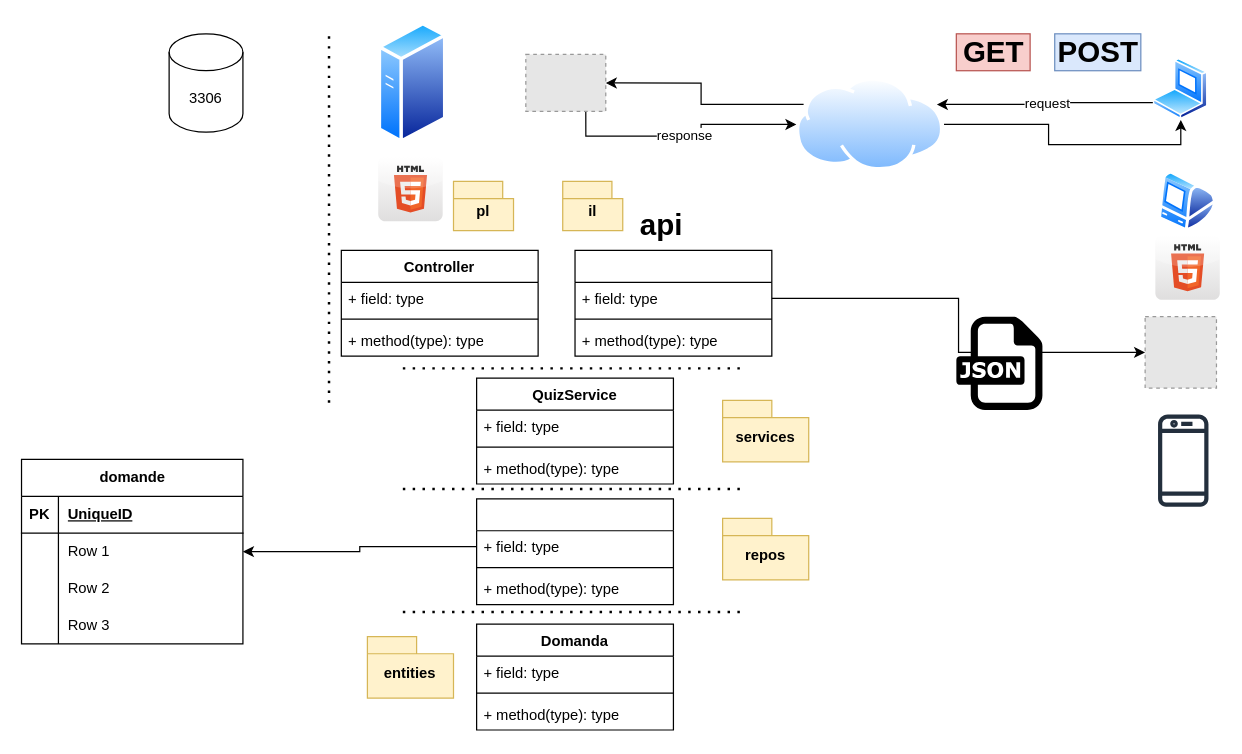
This 1242x754 diagram has some shape labels left out. Grey dashed boxes stand in for pictures. Each missing label, with the box of its shape:
DomandaDAO: (475, 498, 673, 605)
internet: (796, 77, 943, 170)
RestController: (574, 249, 772, 356)
